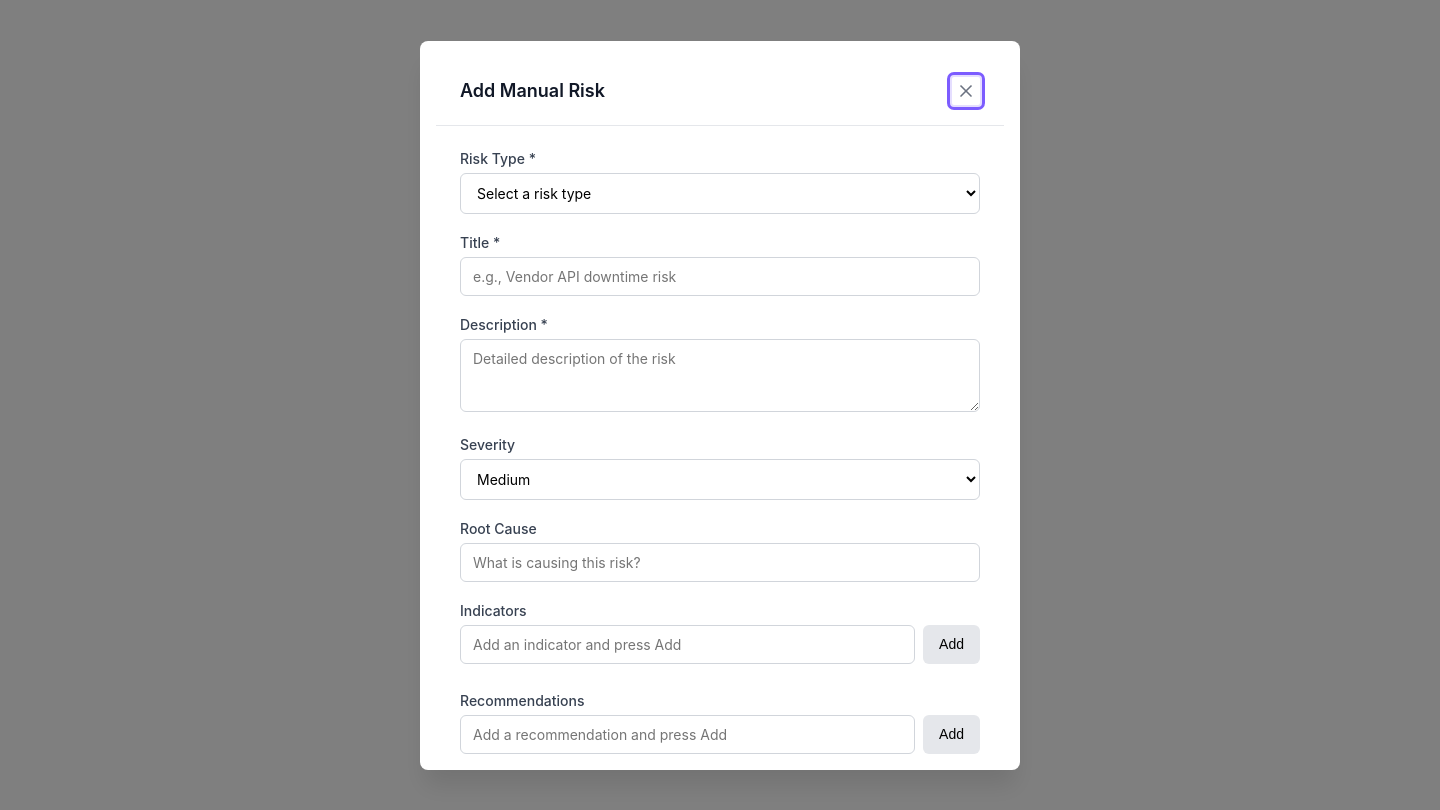
Test: ManualRiskForm Component › Add Mode › should allow adding indicators
Step 1. Type "No SLA contract" into the field with placeholder "Add an indicator and press Add" → (688, 644), box [460,624,915,664]
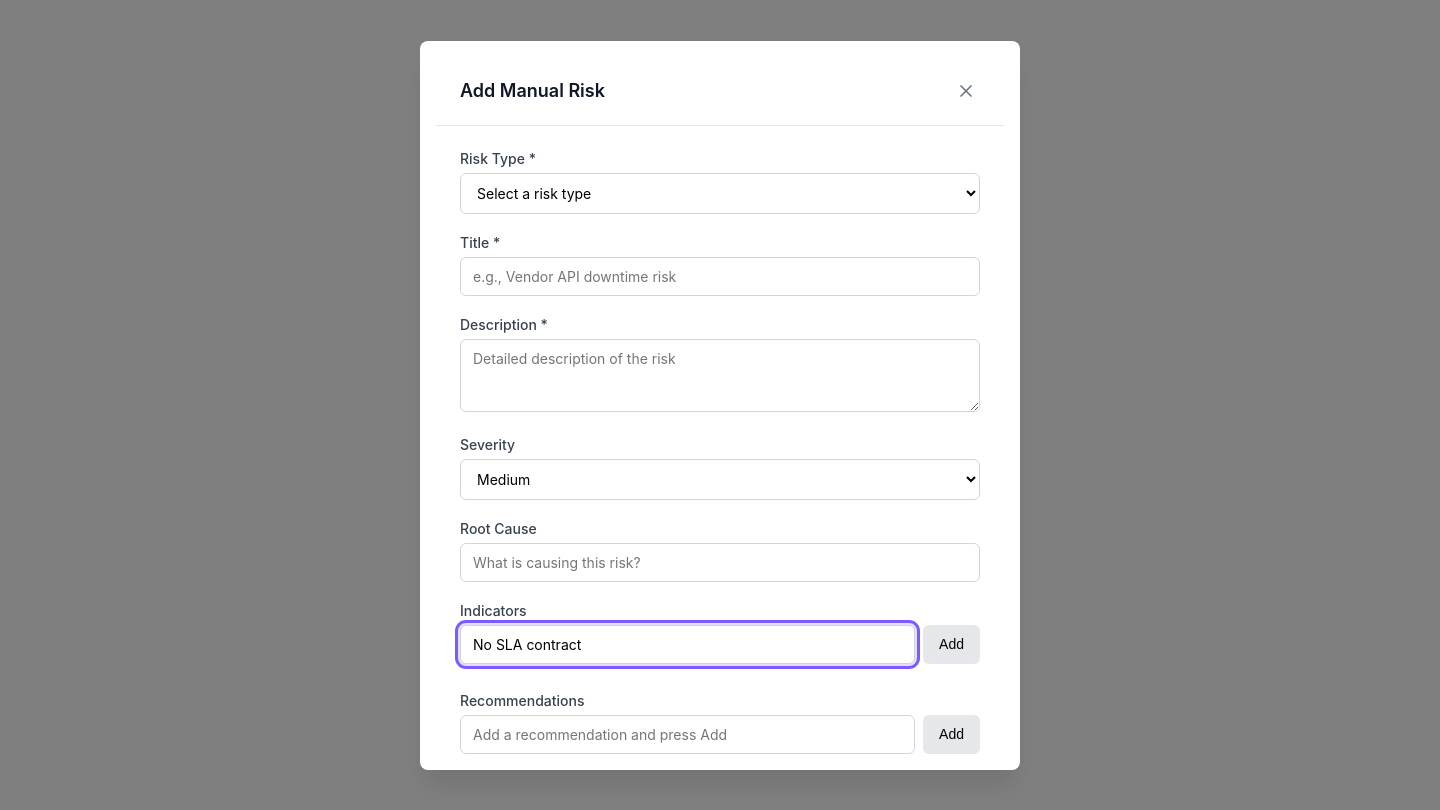
Step 2. Click the 1st button "Add" → (952, 644), box [923,624,980,664]
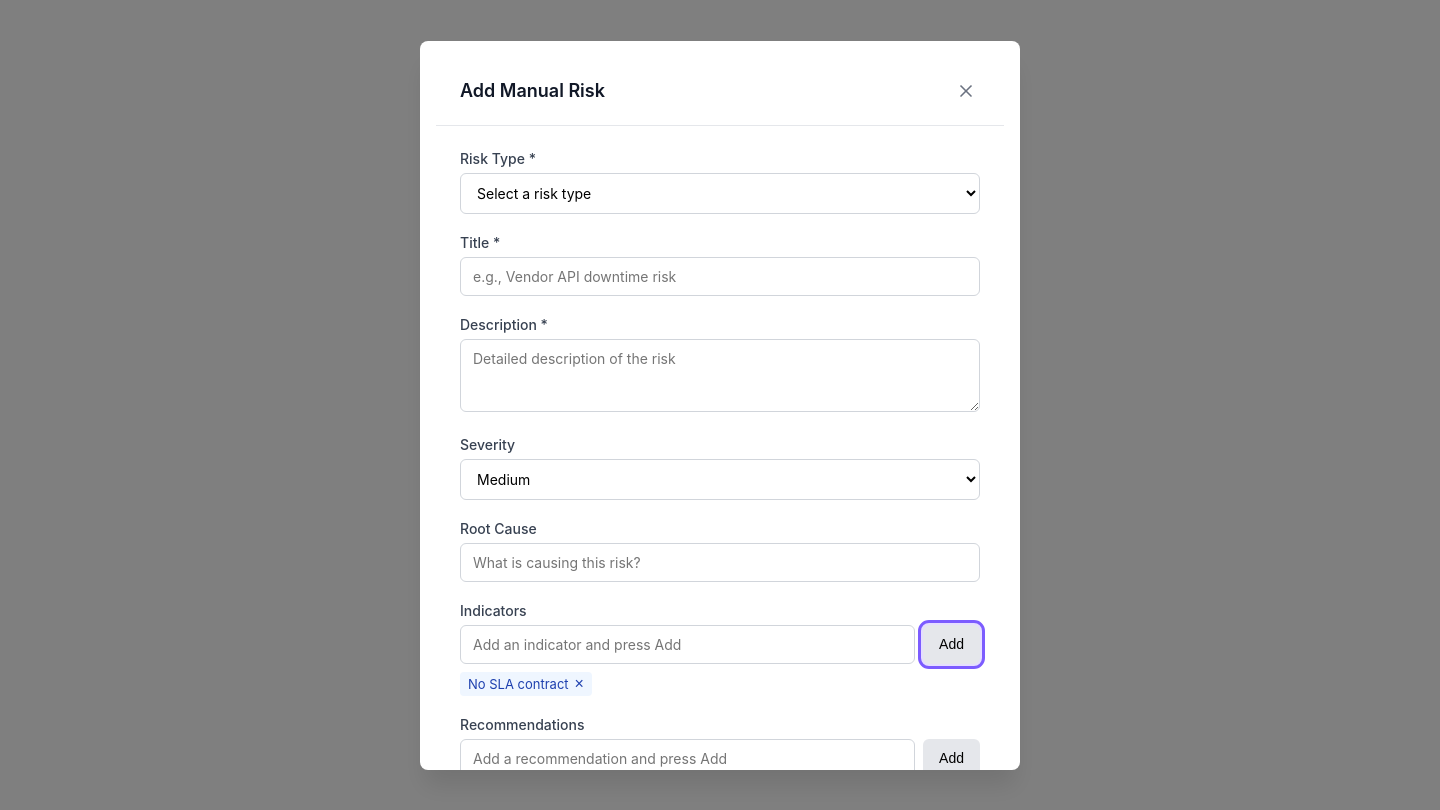
Expected: the text "No SLA contract" is shown, [468,676,569,692]
